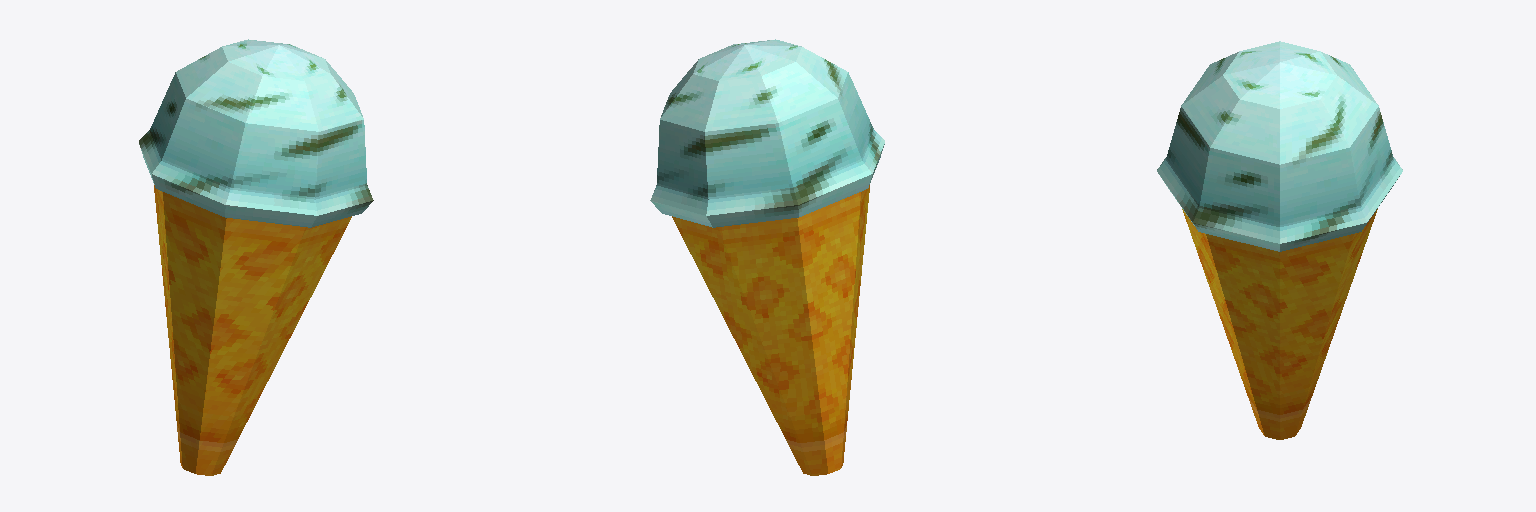
3 views of the same model, side by side, from view 1: azimuth 30°, elevation 25°; view 2: azimuth 150°, elevation 25°; view 3: azimuth 270°, elevation 25° (orthographic).
Parts seen in each view (by area): view 1: polygon0; view 2: polygon0; view 3: polygon0.
Part boxes in pixels (left/top/right/bottom): polygon0: left=139, top=39, right=373, bottom=475; polygon0: left=650, top=39, right=884, bottom=475; polygon0: left=1157, top=41, right=1402, bottom=439.
Bounding box in the file's own units: 0.5964 × 1.12 × 0.6096.
Materials: 1 (1 with a texture image).